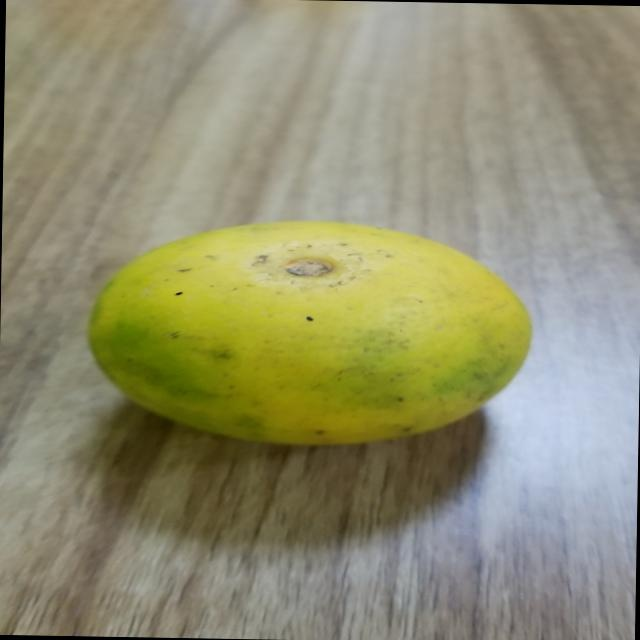agrume: (86, 211, 531, 452)
